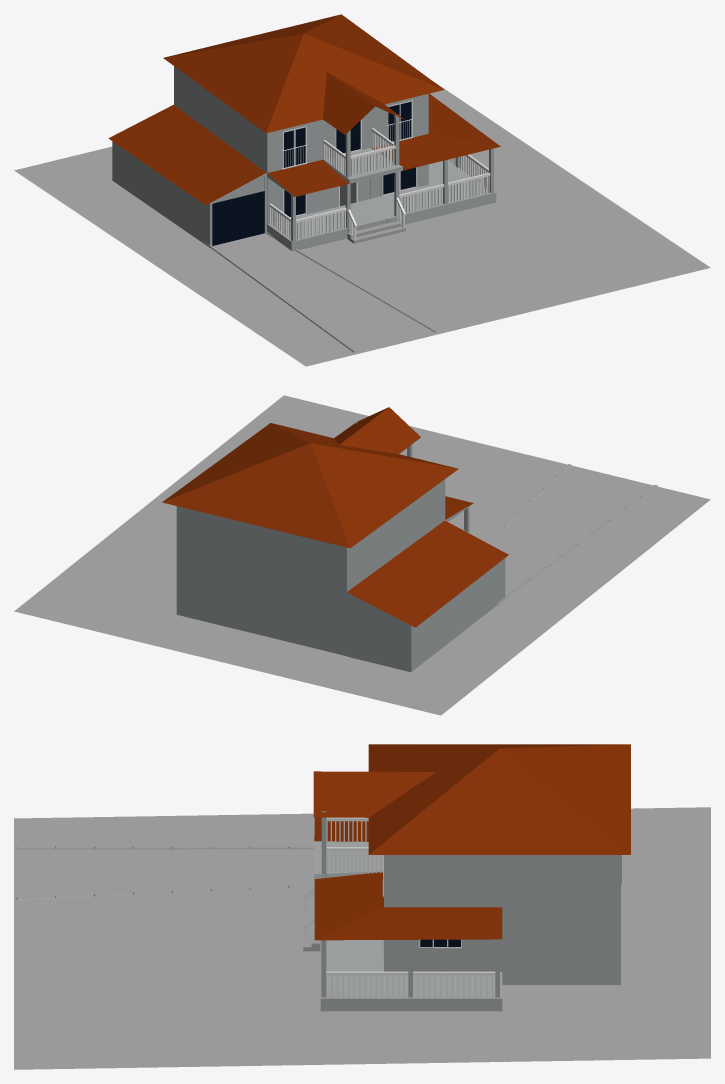
Rendered from uploads_files_2435784_House.fbx.
3 views of the same model, one above another, from view 1: azimuth 30°, elevation 25°; view 2: azimuth 150°, elevation 25°; view 3: azimuth 270°, elevation 25° (orthographic). The views are drawn at different scales.
Parts seen in each view (by area): view 1: pPlane1, pCube12, polySurface3, polySurface5, pPlane2, polySurface4, pCube51, pCube54, pCube37, pCube53, pCube61; view 2: pPlane1, pCube12, polySurface3, polySurface5, pPlane2; view 3: pPlane1, pCube12, polySurface3, pPlane2, pCube56, pCube55, pCube50, pCube49.
Part boxes in pixels (x1,y1,x2,y2): pPlane1: (14,81,710,366); pCube12: (174,66,500,250); polySurface3: (163,14,444,134); polySurface5: (108,105,266,247); pPlane2: (201,232,438,352); polySurface4: (212,191,264,245); pCube51: (296,207,346,239); pCube54: (448,172,490,202); pCube37: (350,145,395,175); pCube53: (399,184,444,213); pCube61: (347,221,405,243); pPlane1: (14,395,710,715); pCube12: (176,479,473,655); polySurface3: (162,407,458,548); polySurface5: (346,520,508,672); pPlane2: (486,464,657,604); pPlane1: (14,807,710,1069); pCube12: (314,817,620,1011); polySurface3: (313,744,630,854); pPlane2: (16,846,314,900); pCube56: (413,971,495,997); pCube55: (326,971,408,997); pCube50: (326,847,381,873); pCube49: (326,817,368,842).
Bounding box in the file's own units: 22.28 × 7.66 × 25.
